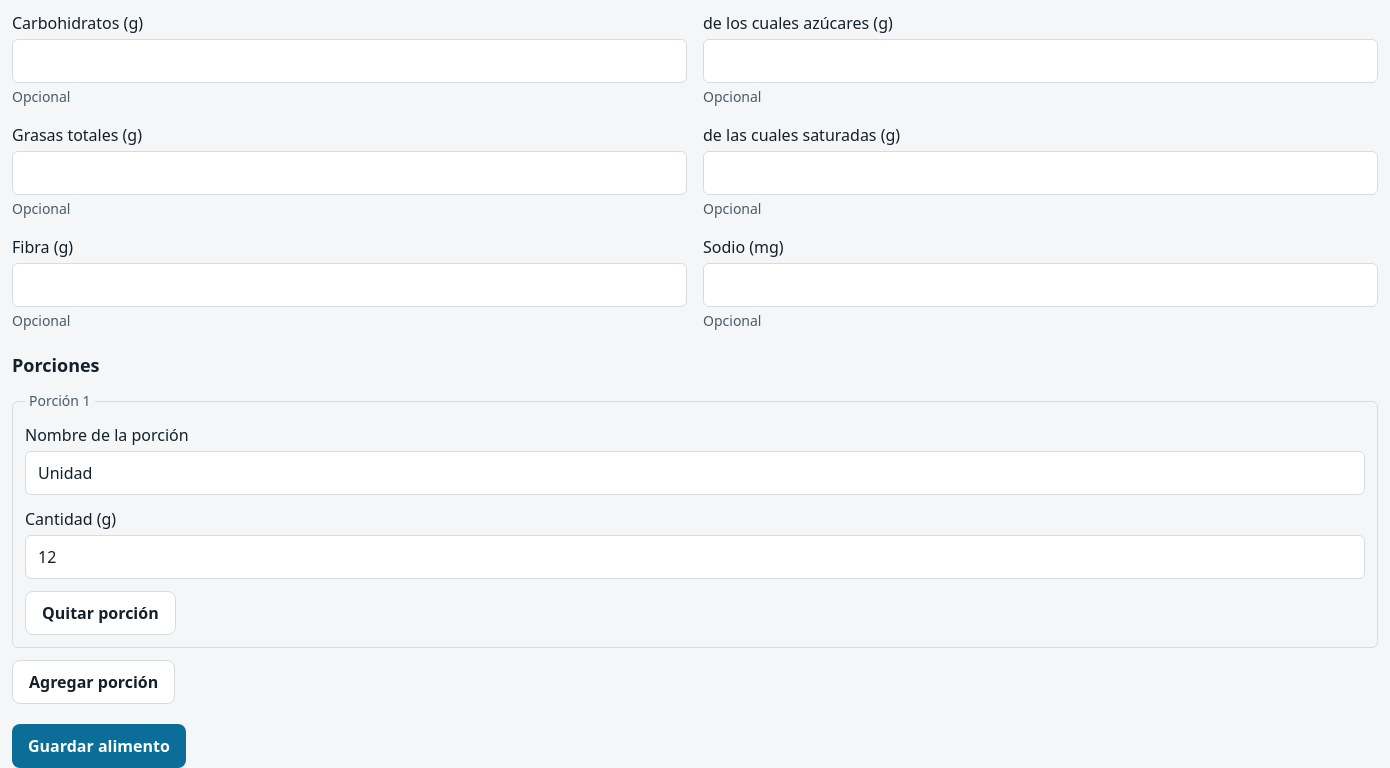
Test: FoodEditPage › una copia sin energía exige completarla para guardar
(page scrolled)
Click the button "Guardar alimento" at (99, 746), box x1=12 y1=724 x2=186 y2=767
(page scrolled)
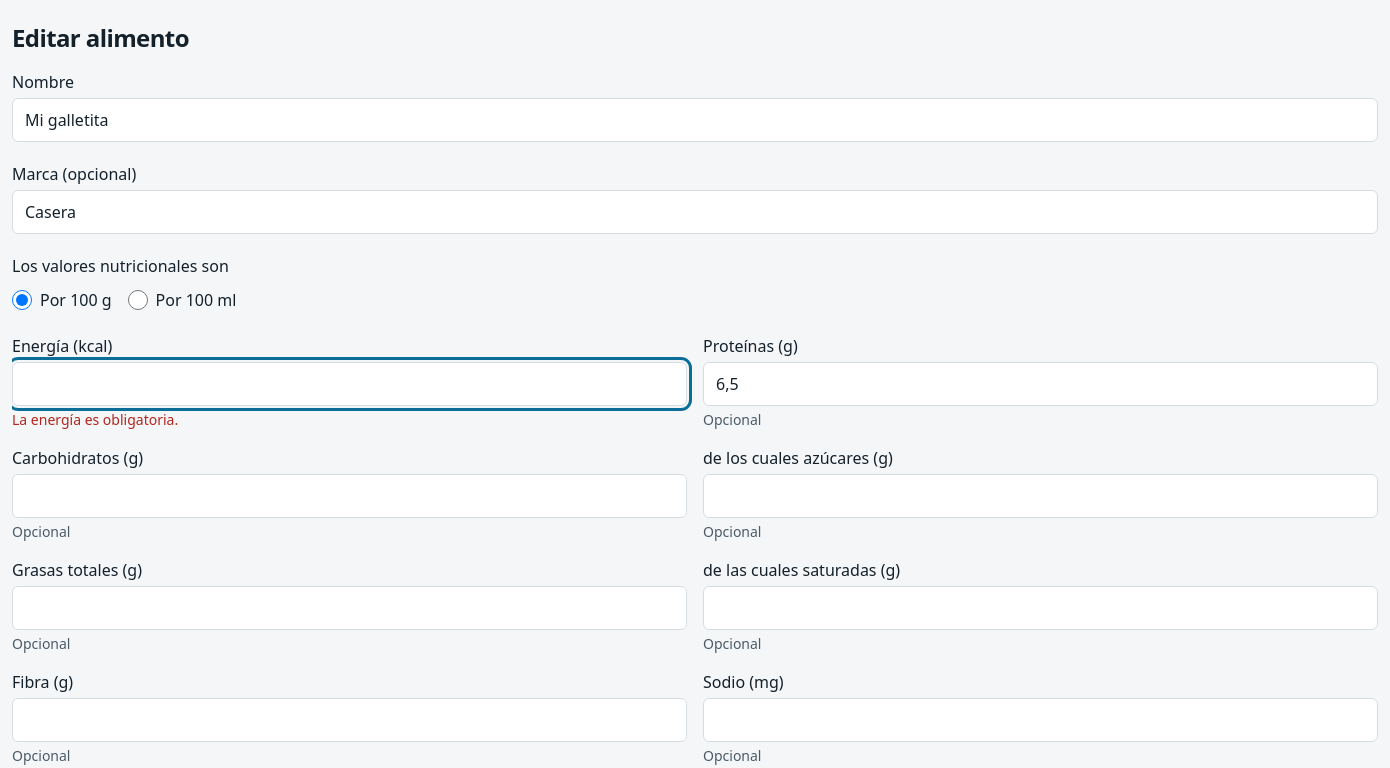
Result: the text "La energía es obligatoria." is shown at x1=12 y1=410 x2=178 y2=429
